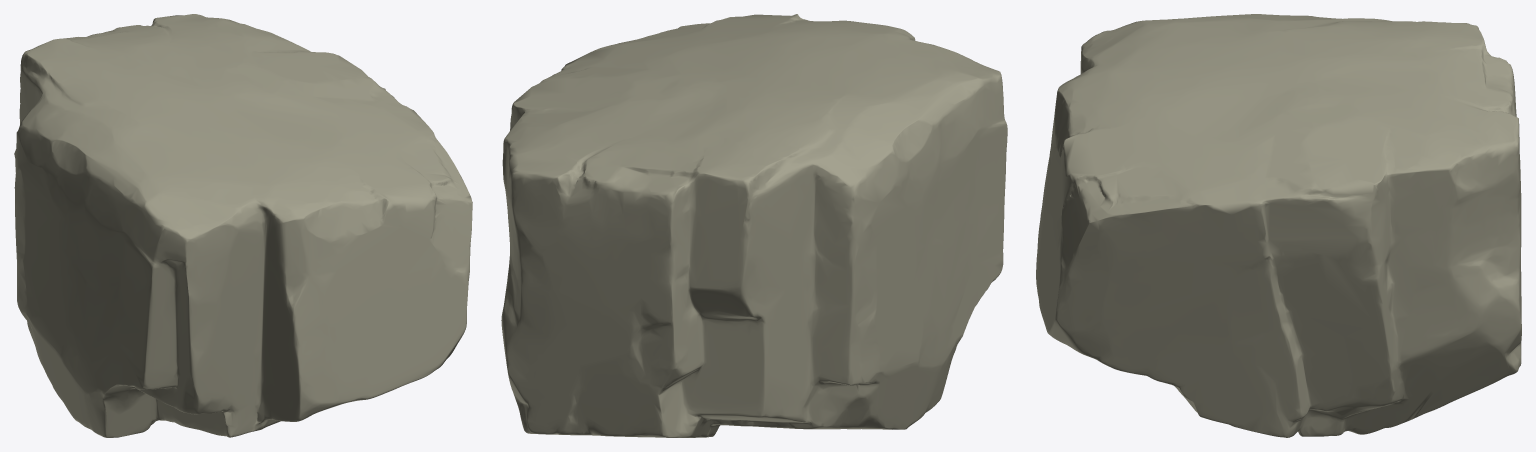
3 renders of one model, left to right at view 1: azimuth 30°, elevation 25°; view 2: azimuth 150°, elevation 25°; view 3: azimuth 270°, elevation 25°, orthographic. The views are drawn at different scales.
Visible parts, largest first — view 1: SM_BM_Cliff_Bottom_02_LOD0; view 2: SM_BM_Cliff_Bottom_02_LOD0; view 3: SM_BM_Cliff_Bottom_02_LOD0.
Boxes of the visible parts, <box> form: SM_BM_Cliff_Bottom_02_LOD0: <box>14,14,472,437</box>; SM_BM_Cliff_Bottom_02_LOD0: <box>501,14,1007,437</box>; SM_BM_Cliff_Bottom_02_LOD0: <box>1036,14,1521,437</box>.
Size of the model in its own units: 16.76 by 15.1 by 20.84.
